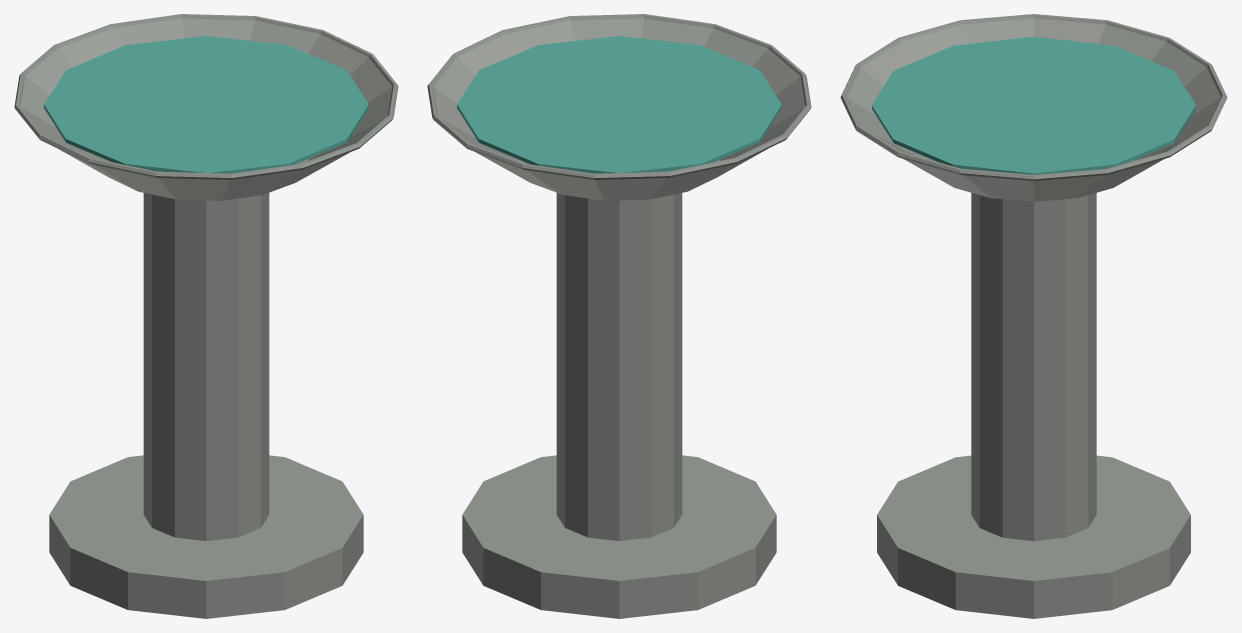
The model's file is Birdbath_A.glb.
The picture shows the model from 3 angles, left to right: view 1: azimuth 30°, elevation 25°; view 2: azimuth 150°, elevation 25°; view 3: azimuth 270°, elevation 25°; orthographic projection.
Visible parts, largest first — view 1: Birdbath_A; view 2: Birdbath_A; view 3: Birdbath_A.
Boxes of the visible parts, <box> form: Birdbath_A: <box>14,14,398,618</box>; Birdbath_A: <box>427,14,811,618</box>; Birdbath_A: <box>840,14,1227,618</box>.
Size of the model in its own units: 0.74 by 0.9652 by 0.74.
